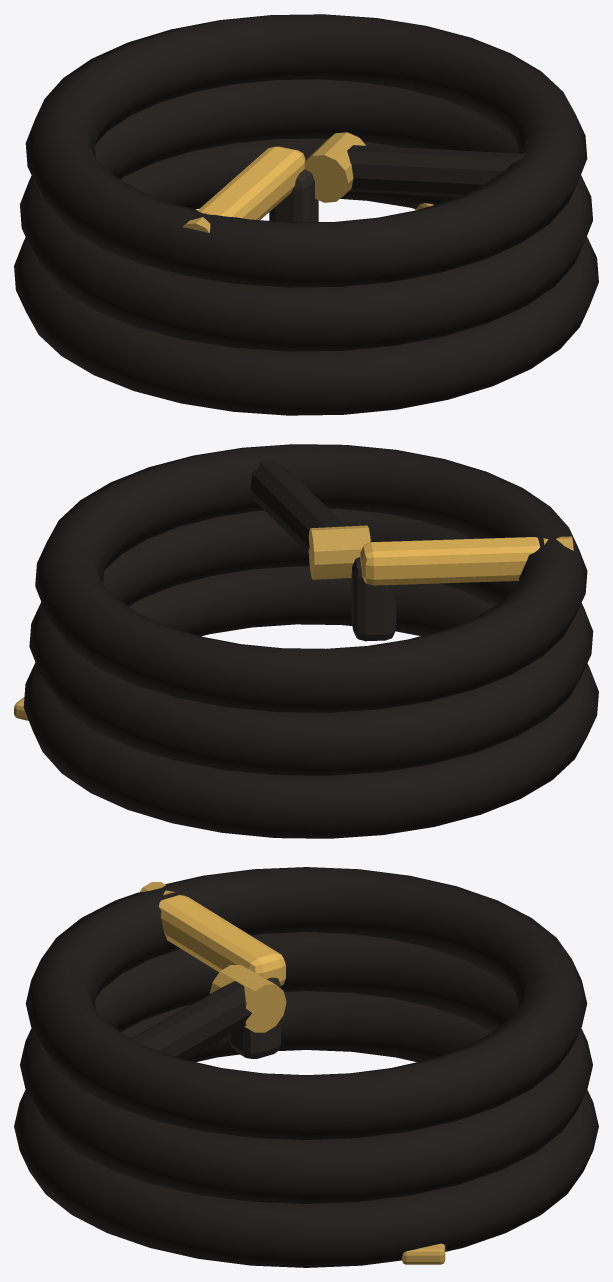
File: hh_cat_hose_v.glb
The picture shows the model from 3 angles, top to bottom: view 1: azimuth 30°, elevation 25°; view 2: azimuth 150°, elevation 25°; view 3: azimuth 270°, elevation 25°; orthographic projection.
Visible parts, largest first — view 1: hose_coil.002, hose_coil.001, hose_coil, hose_end, spray_gun, hose_connector, spray_gun_grip; view 2: hose_coil.002, hose_coil, hose_coil.001, spray_gun, hose_end, spray_gun_grip, hose_connector; view 3: hose_coil.002, hose_coil.001, hose_coil, spray_gun, hose_end, hose_connector, spray_gun_grip, tap_connector.
Part boxes in pixels (x1,y1,x2,y2): hose_coil.002: [25, 14, 587, 287]; hose_coil.001: [20, 79, 592, 351]; hose_coil: [14, 138, 598, 415]; hose_end: [347, 145, 525, 196]; spray_gun: [197, 146, 305, 220]; hose_connector: [304, 132, 365, 202]; spray_gun_grip: [269, 169, 318, 222]; hose_coil.002: [35, 444, 587, 712]; hose_coil: [23, 566, 598, 838]; hose_coil.001: [29, 508, 593, 775]; spray_gun: [360, 537, 540, 585]; hose_end: [250, 460, 345, 553]; spray_gun_grip: [351, 557, 396, 641]; hose_connector: [308, 525, 370, 579]; hose_coil.002: [25, 867, 587, 1139]; hose_coil.001: [20, 932, 592, 1203]; hose_coil: [14, 991, 598, 1267]; spray_gun: [159, 895, 285, 985]; hose_end: [130, 981, 251, 1059]; hose_connector: [210, 965, 286, 1032]; spray_gun_grip: [229, 977, 280, 1058]; tap_connector: [401, 1243, 445, 1264].
Size of the model in its own units: 0.4 by 0.14 by 0.4.
